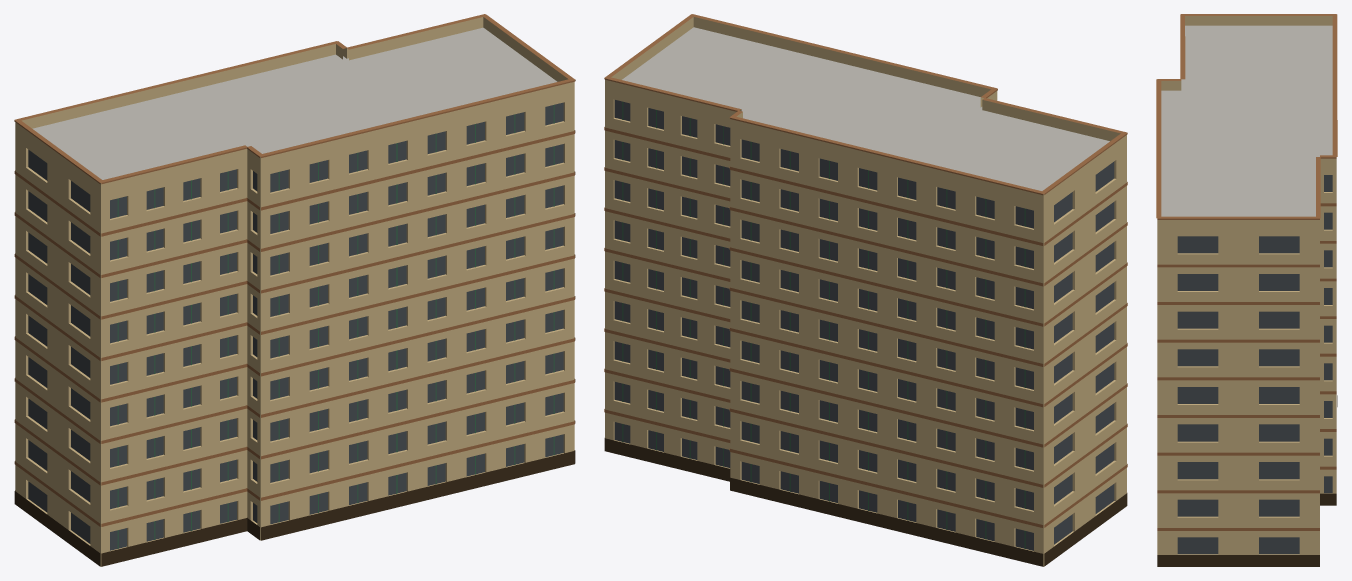
3 renders of one model, left to right at view 1: azimuth 30°, elevation 25°; view 2: azimuth 150°, elevation 25°; view 3: azimuth 270°, elevation 25°, orthographic. The views are drawn at different scales.
Parts seen in each view (by area): view 1: globalBrain__wall, globalBrain__glass, globalBrain__roof, globalBrain__trim, globalBrain__parapet, globalBrain__base, globalBrain__frame; view 2: globalBrain__wall, globalBrain__glass, globalBrain__roof, globalBrain__trim, globalBrain__parapet, globalBrain__base, globalBrain__frame; view 3: globalBrain__wall, globalBrain__roof, globalBrain__glass, globalBrain__trim, globalBrain__parapet, globalBrain__base.
Boxes of the visible parts, x1,y1,x2,y2 form: globalBrain__wall: (15, 90, 574, 566); globalBrain__glass: (28, 102, 563, 550); globalBrain__roof: (32, 27, 557, 566); globalBrain__trim: (14, 14, 575, 526); globalBrain__parapet: (15, 17, 574, 193); globalBrain__base: (14, 450, 575, 566); globalBrain__frame: (117, 104, 554, 548); globalBrain__wall: (605, 88, 1126, 566); globalBrain__glass: (614, 100, 1114, 550); globalBrain__roof: (622, 27, 1109, 566); globalBrain__trim: (604, 14, 1127, 527); globalBrain__parapet: (605, 17, 1126, 203); globalBrain__base: (604, 438, 1127, 566); globalBrain__frame: (622, 101, 1025, 548); globalBrain__wall: (1157, 166, 1336, 554); globalBrain__roof: (1161, 25, 1332, 216); globalBrain__glass: (1177, 175, 1332, 554); globalBrain__trim: (1156, 14, 1337, 530); globalBrain__parapet: (1157, 16, 1336, 227); globalBrain__base: (1157, 395, 1337, 566).
Size of the model in its own units: 36.15 by 28.72 by 13.52.
